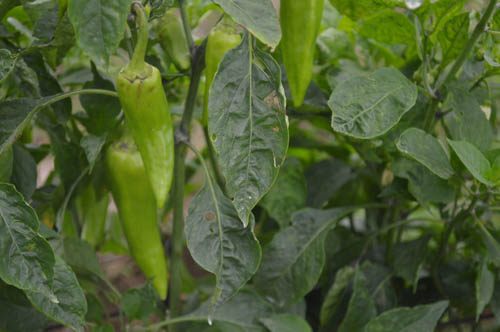ChiliPepper: (108, 145, 171, 296), (116, 70, 179, 212), (276, 1, 325, 114), (204, 33, 242, 134), (154, 15, 192, 68)
